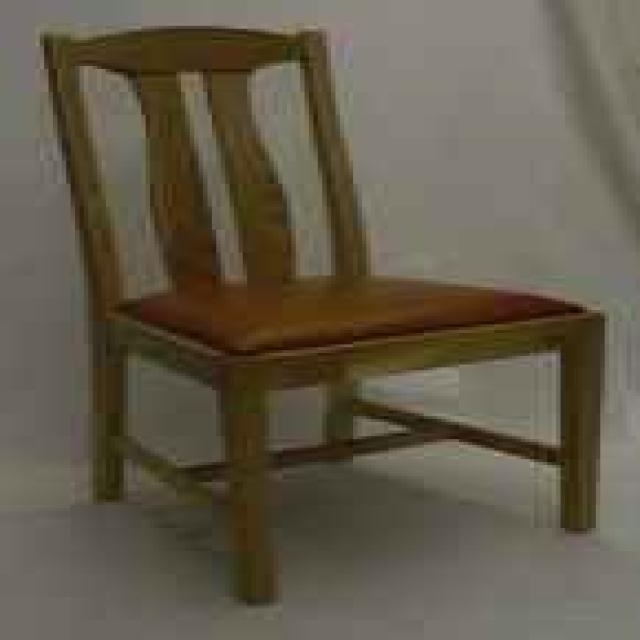chair: (35, 23, 605, 603)
